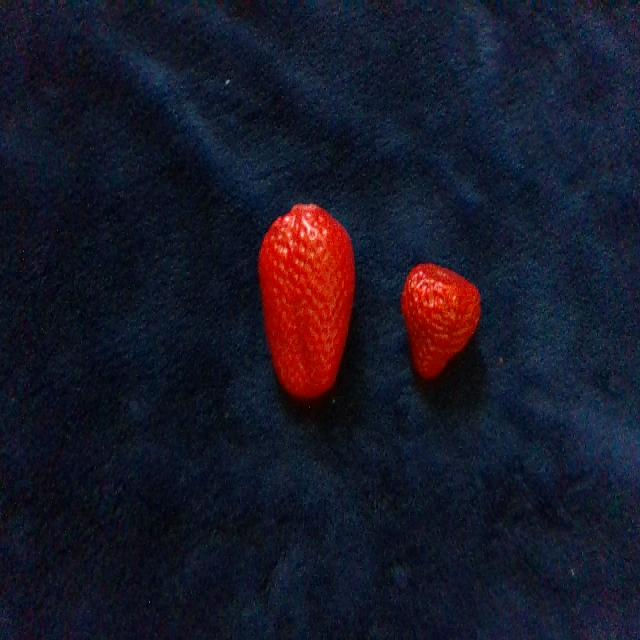chica_roja: (402, 264, 480, 377)
grande_roja: (259, 204, 354, 397)
